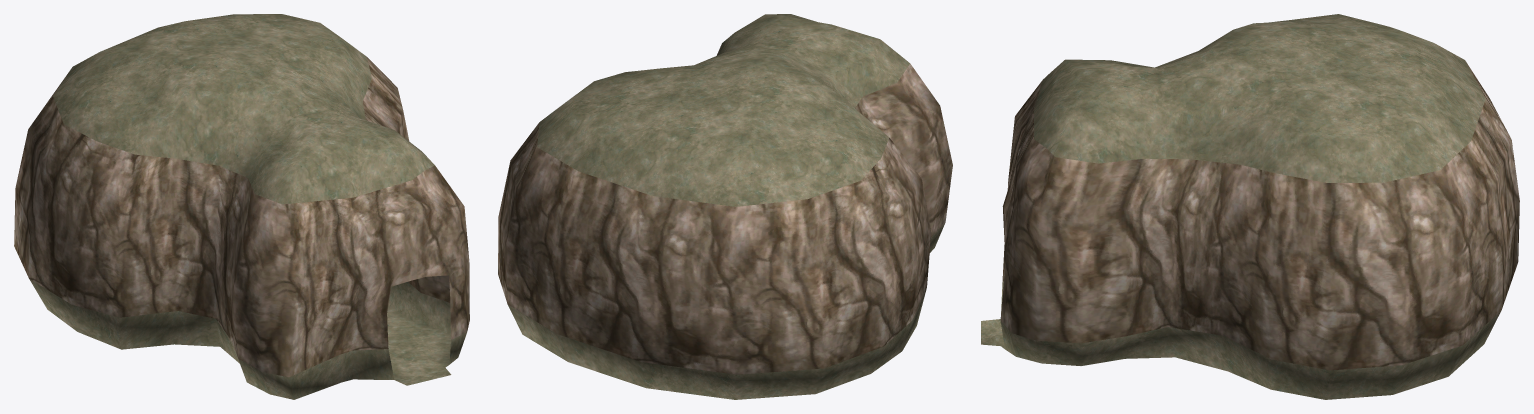
The model's file is EKH_GROTTO_PS_GR_SIDEROOM_4837__GX.fbx.
The picture shows the model from 3 angles, left to right: view 1: azimuth 30°, elevation 25°; view 2: azimuth 150°, elevation 25°; view 3: azimuth 270°, elevation 25°; orthographic projection. The views are drawn at different scales.
Parts seen in each view (by area): view 1: EKH_GROTTO_PS_GR_SIDEROOM_4837__GX; view 2: EKH_GROTTO_PS_GR_SIDEROOM_4837__GX; view 3: EKH_GROTTO_PS_GR_SIDEROOM_4837__GX.
Boxes of the visible parts, x1,y1,x2,y2 form: EKH_GROTTO_PS_GR_SIDEROOM_4837__GX: [14, 14, 469, 399]; EKH_GROTTO_PS_GR_SIDEROOM_4837__GX: [498, 14, 952, 399]; EKH_GROTTO_PS_GR_SIDEROOM_4837__GX: [981, 14, 1519, 399].
Bounding box in the file's own units: 98359 × 59951 × 114522.
Materials: 2 (2 with a texture image).
